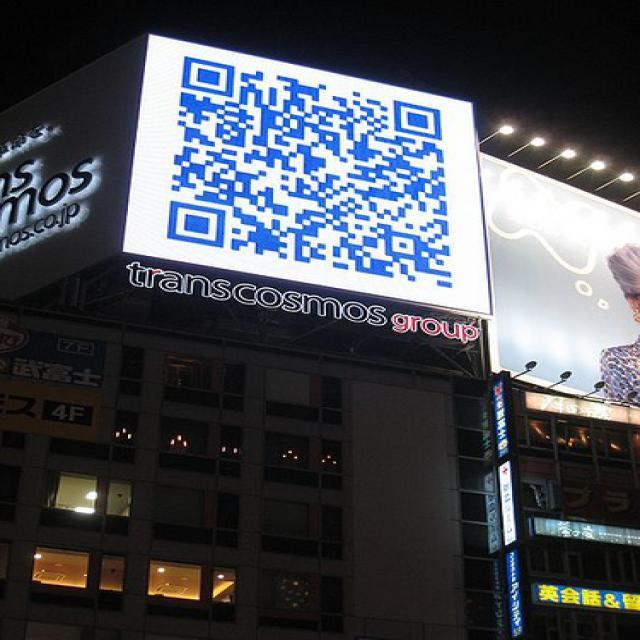qrcode: (168, 57, 452, 289)
